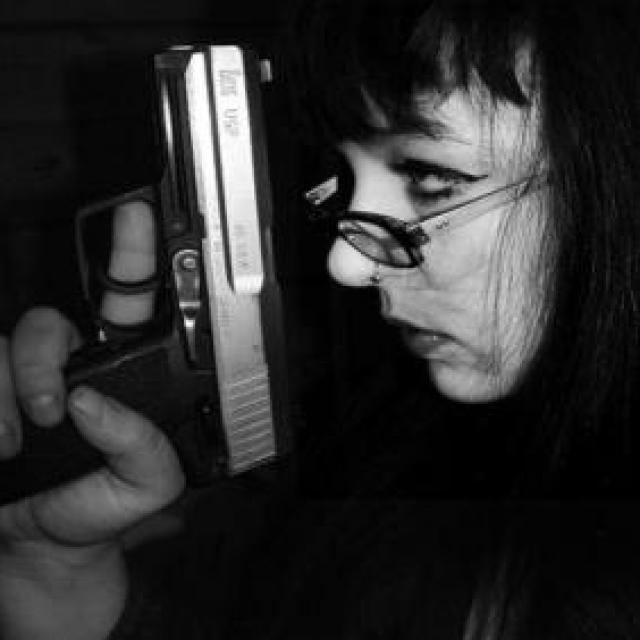pistol: (0, 43, 297, 517)
